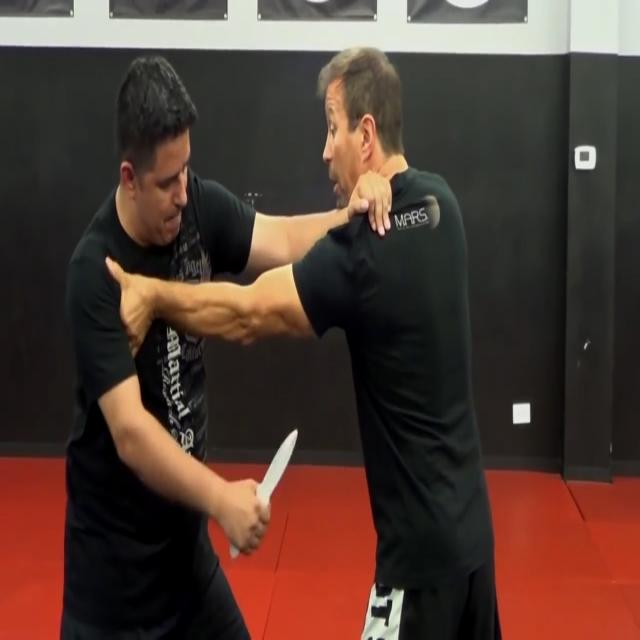knife: (255, 419, 307, 522)
